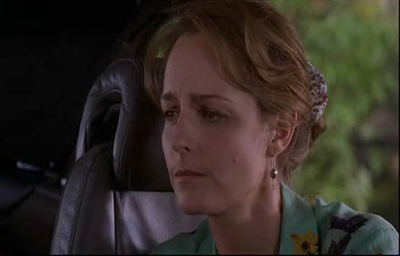cu: (1, 1, 400, 256)
face: (158, 64, 256, 216)
person: (139, 1, 400, 254)
